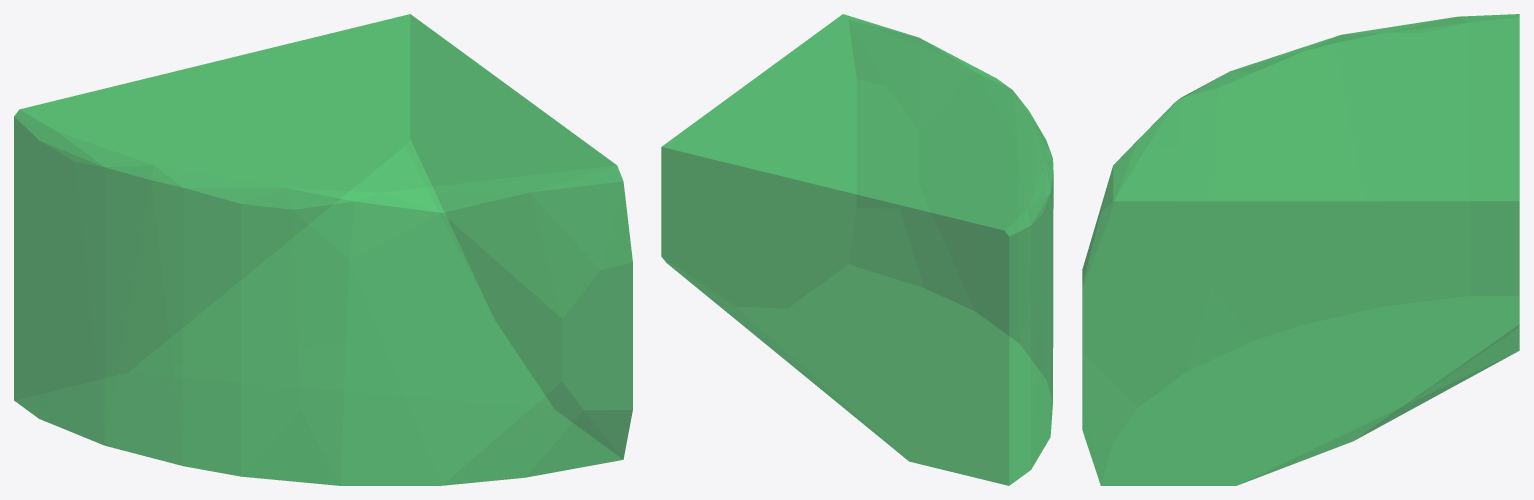
3 renders of one model, left to right at view 1: azimuth 30°, elevation 25°; view 2: azimuth 150°, elevation 25°; view 3: azimuth 270°, elevation 25°, orthographic. The views are drawn at different scales.
Visible parts, largest first — view 1: Shape_IndexedFaceSet.001_Shape_IndexedFaceSet.17576; view 2: Shape_IndexedFaceSet.001_Shape_IndexedFaceSet.17576; view 3: Shape_IndexedFaceSet.001_Shape_IndexedFaceSet.17576.
Boxes of the visible parts, x1,y1,x2,y2 form: Shape_IndexedFaceSet.001_Shape_IndexedFaceSet.17576: [14, 14, 632, 485]; Shape_IndexedFaceSet.001_Shape_IndexedFaceSet.17576: [661, 14, 1053, 485]; Shape_IndexedFaceSet.001_Shape_IndexedFaceSet.17576: [1082, 14, 1519, 485].
Size of the model in its own units: 0.1286 by 0.0899 by 0.1251.
